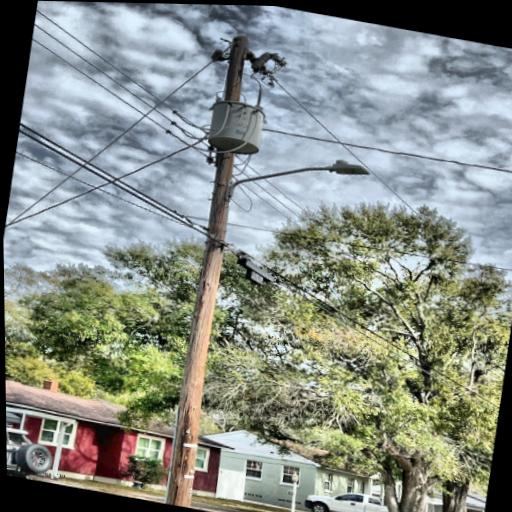pole: (144, 22, 279, 512)
street light: (221, 138, 373, 227)
transformer: (202, 95, 267, 159)
